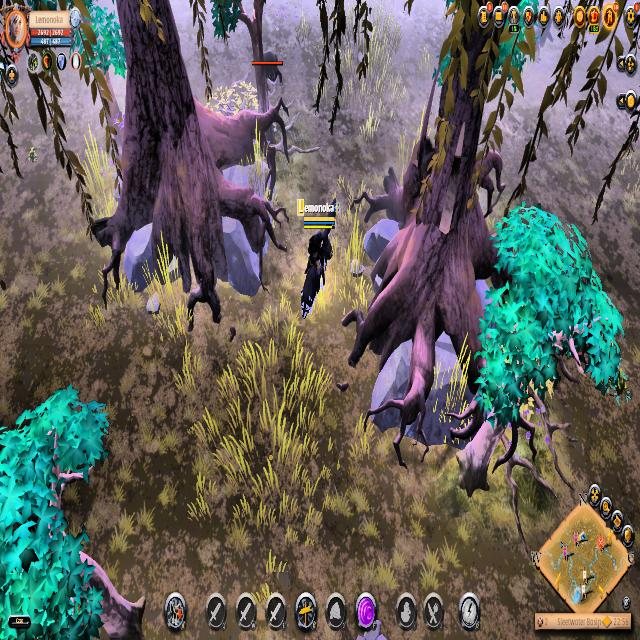wood tier 3: (475, 195, 626, 428)
